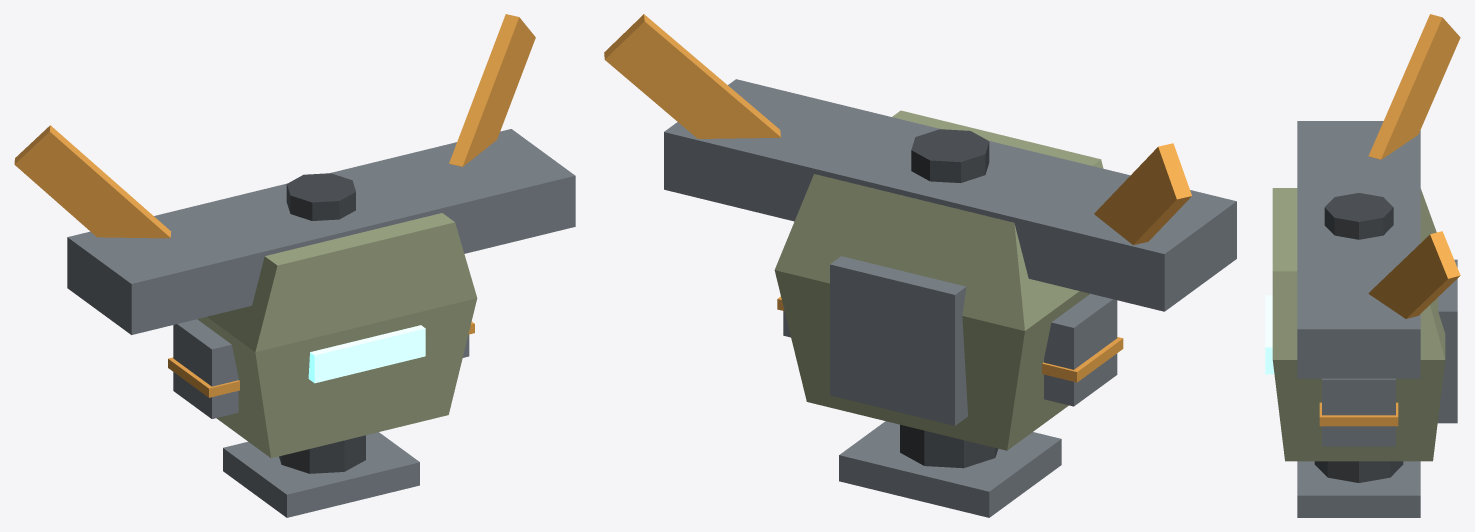
Rendered from mech-hangar-and-battle-frames-scout-torso-bd3da726__26789.glb.
3 views of the same model, side by side, from view 1: azimuth 30°, elevation 25°; view 2: azimuth 150°, elevation 25°; view 3: azimuth 270°, elevation 25° (orthographic). The views are drawn at different scales.
Visible parts, largest first — view 1: scout-torso; view 2: scout-torso; view 3: scout-torso.
Part boxes in pixels (x1=…): scout-torso: x1=14, y1=14, x2=575, y2=517; scout-torso: x1=604, y1=14, x2=1236, y2=517; scout-torso: x1=1265, y1=14, x2=1460, y2=517.
Bounding box in the file's own units: 2.35 × 1.62 × 0.792.
